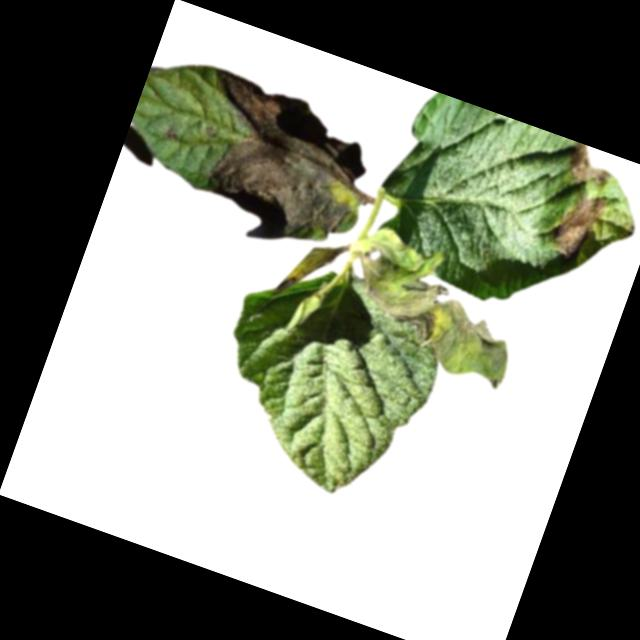Late_blight: (167, 68, 384, 268), (334, 222, 542, 391), (547, 185, 612, 268), (560, 140, 615, 194), (160, 125, 180, 145)
